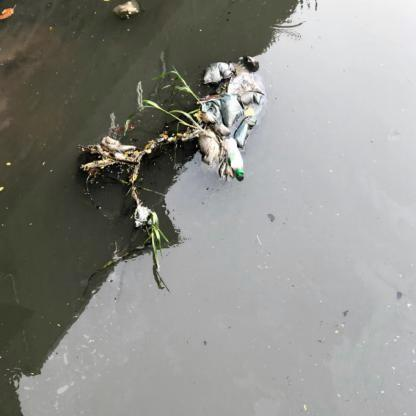Plastic: (220, 134, 248, 184)
